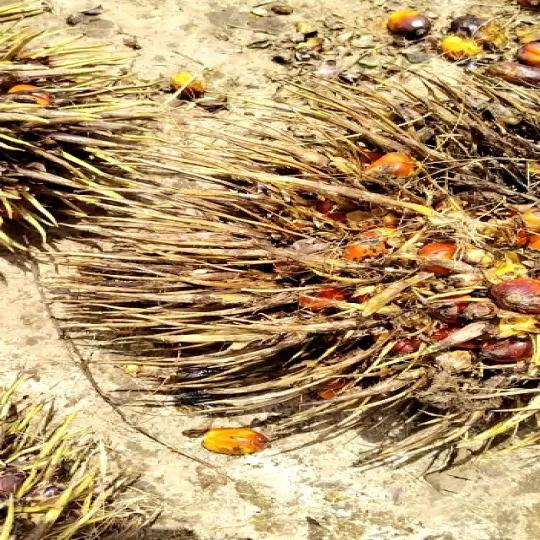terlalu masak: (102, 63, 540, 471)
